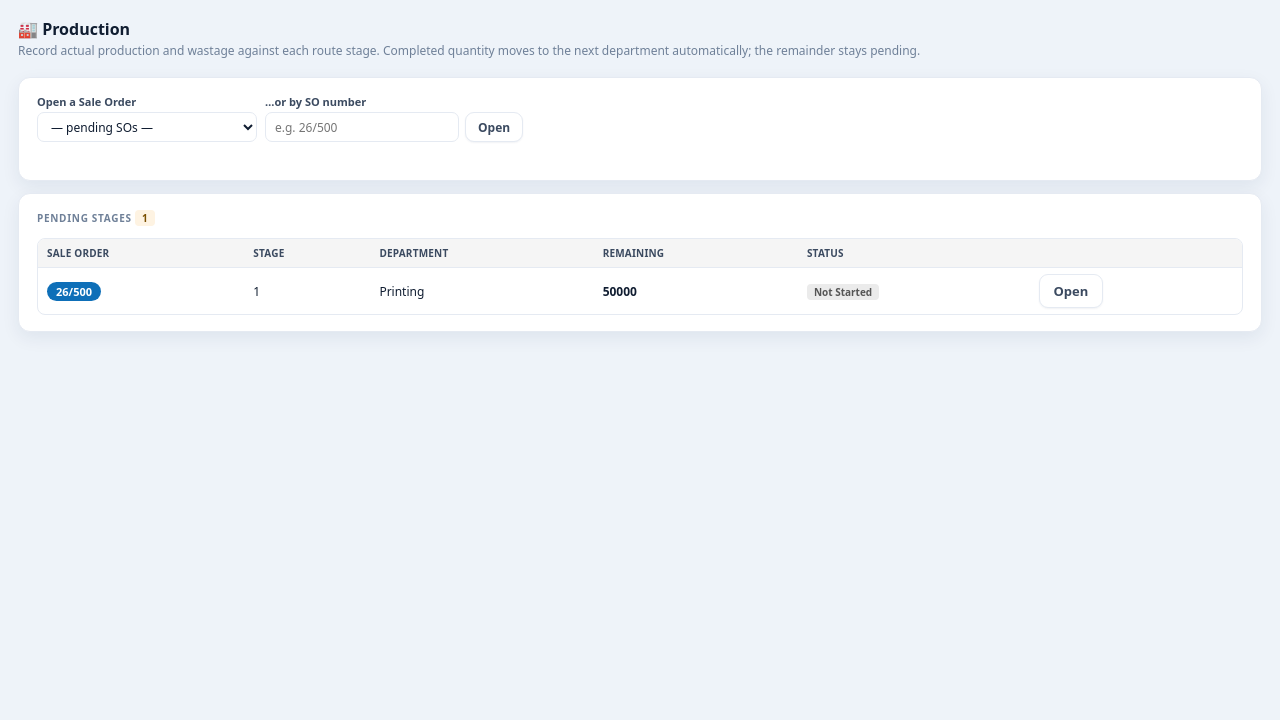
Test case: Production page › records partial production and shows the remainder + next-stage movement
The image size is (1280, 720).
Step 1. Select "26/500" in the dropdown → (147, 127), box [37,112,257,142]
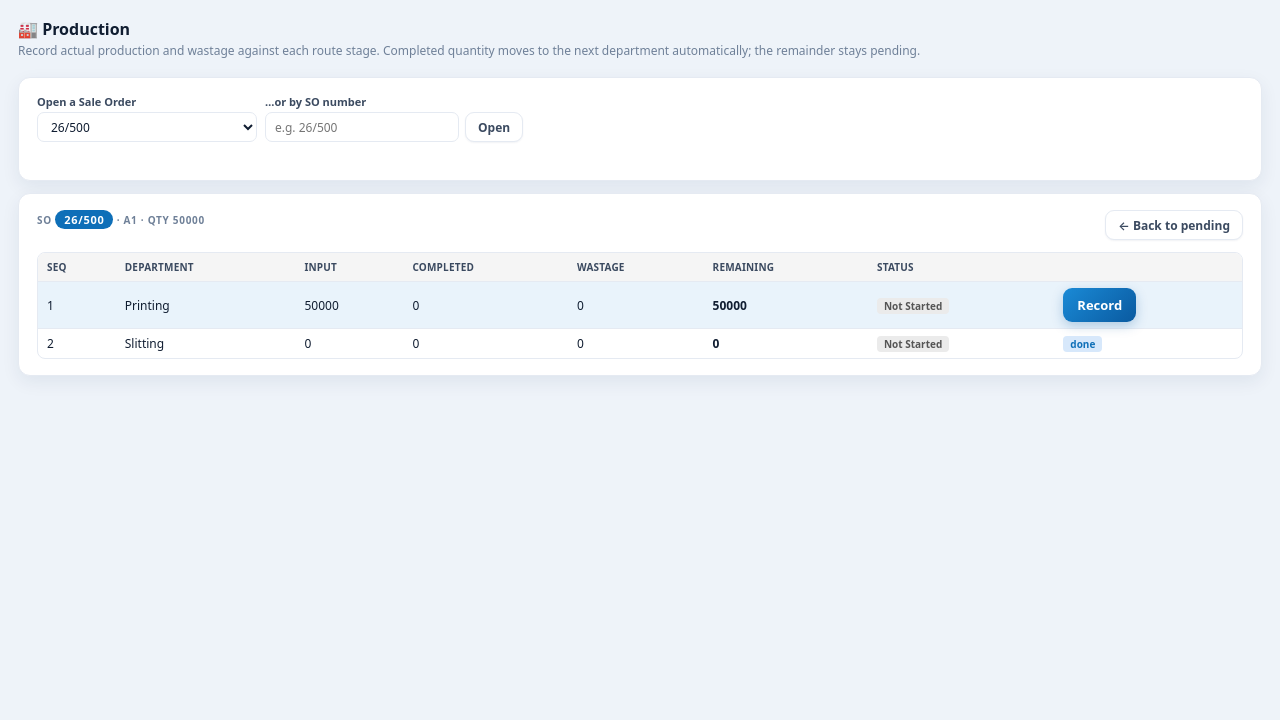
Expected: the text "Printing" is shown, [116,282,296,328]
Step 2. Click the button "Record" → (1100, 305), box [1063,288,1136,322]
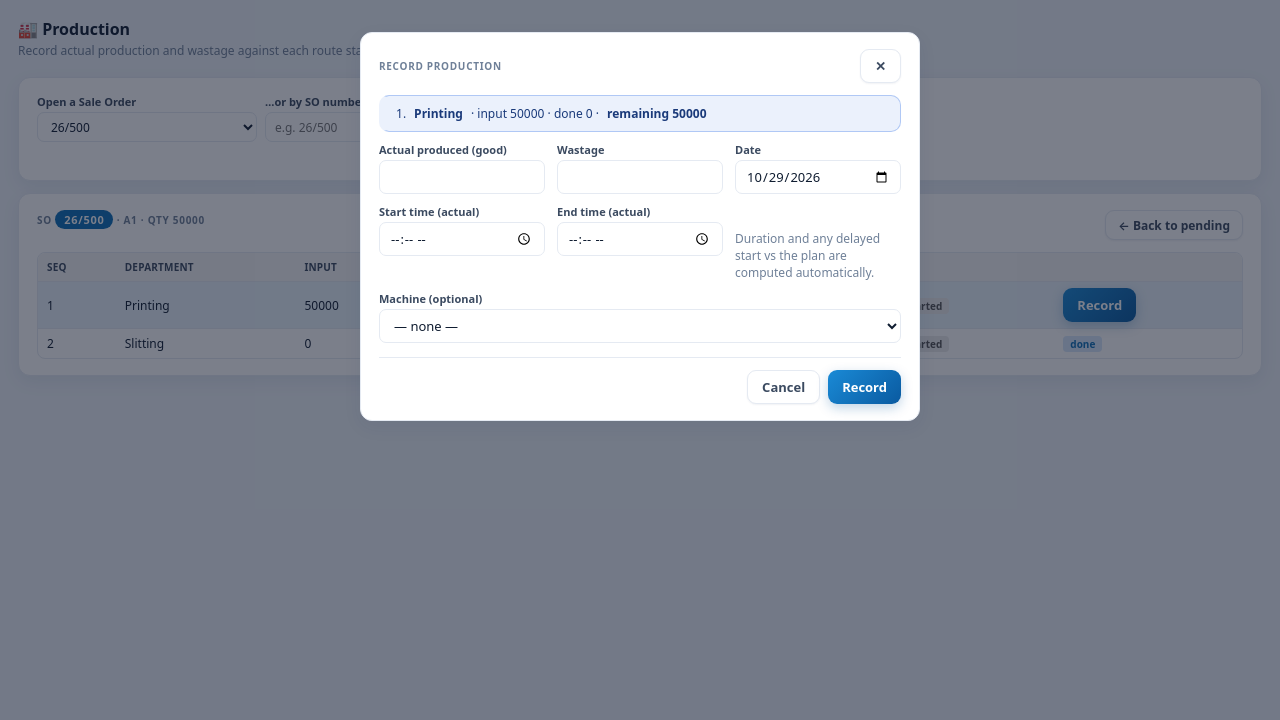
Step 3. Type "20000" into the number field below "Actual produced (good)" → (462, 177), box [379,160,545,194]
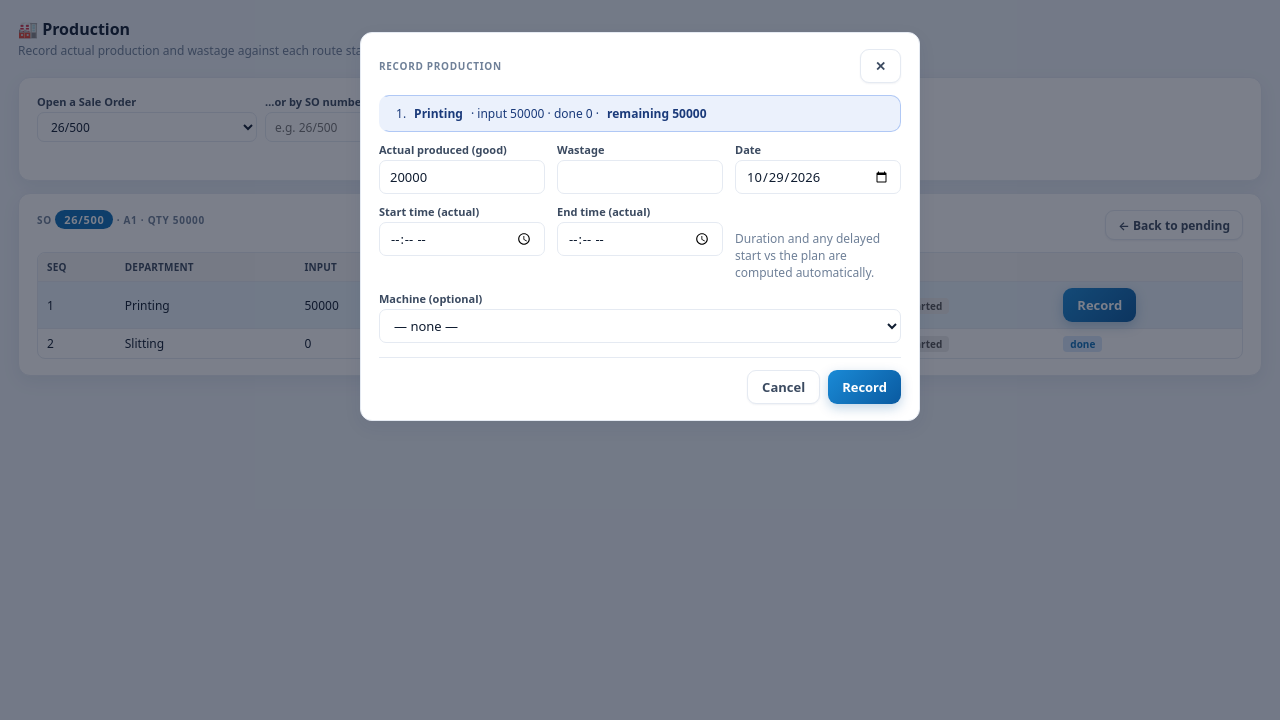
Step 4. Click the button "Record" → (865, 387), box [828,370,901,404]
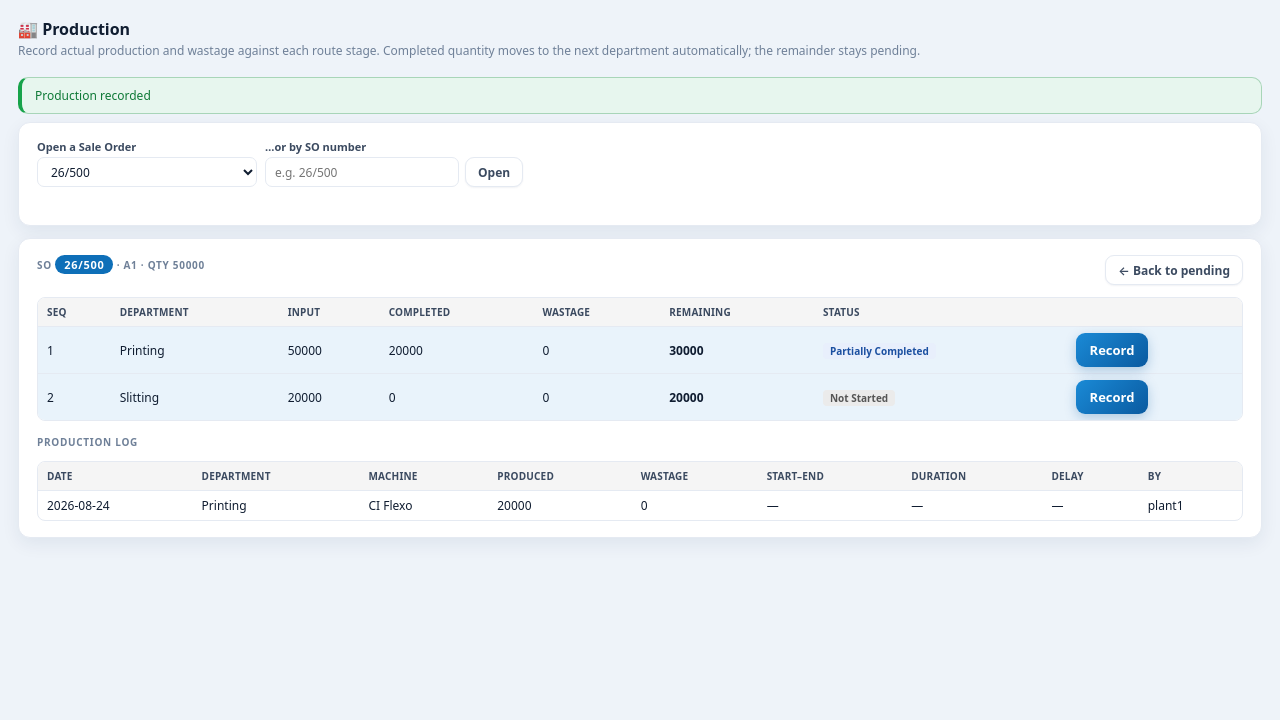
Expected: the text "Partially Completed" is shown, [823,342,936,358]
Expected: the text "30000" is shown, [669,342,704,358]
Expected: the text "20000" in the row of "30000" is shown, [389,342,423,358]
